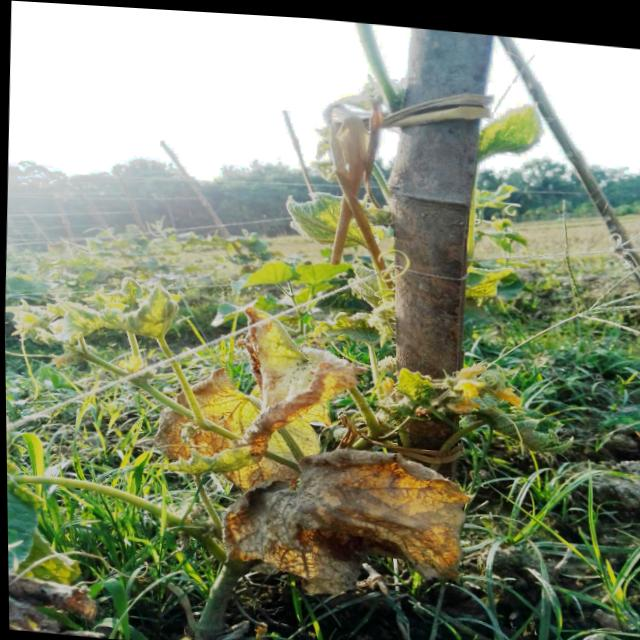Bacterial-Wilt: (217, 442, 472, 593)
